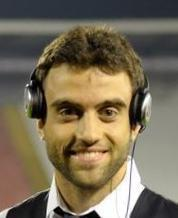face: (54, 98, 120, 166)
